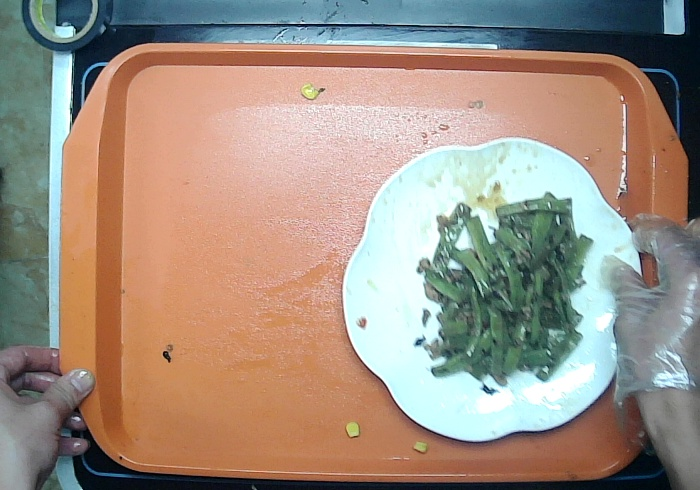HZYJPL-Bai_Se_Hua_Duo_Wan: (340, 134, 645, 445)
